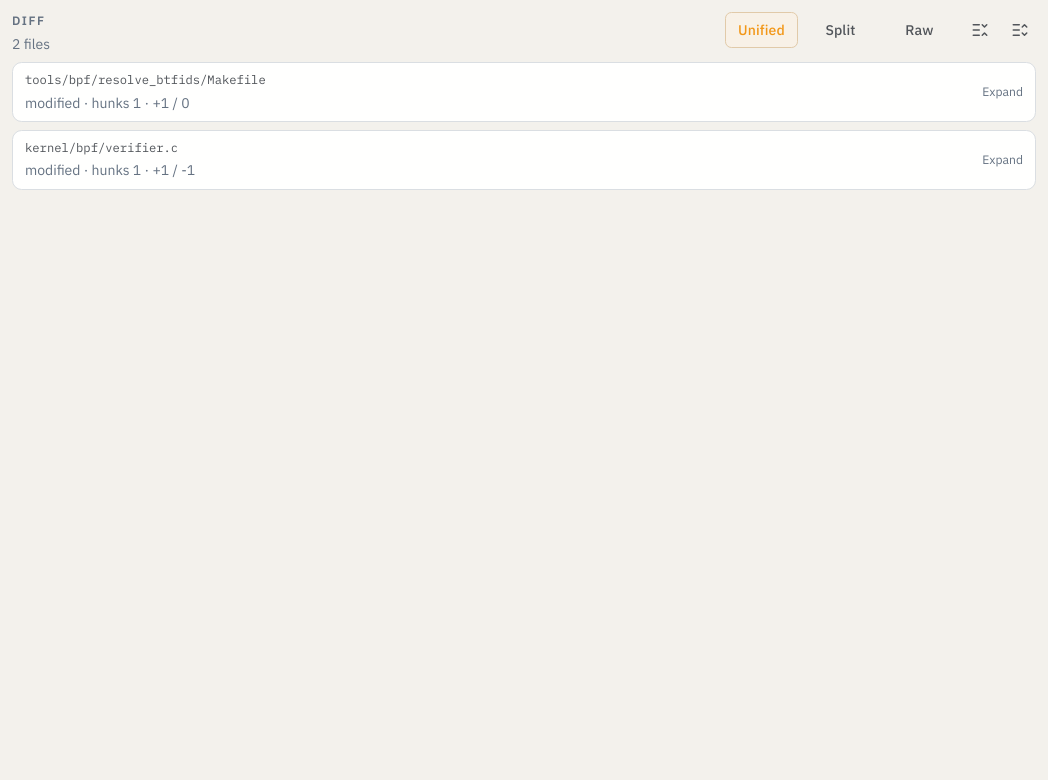
it: MessageDiffViewer › supports expand-all and collapse-all controls
The width and height of the screenshot is (1048, 780).
Click the button named "Expand all files in diff" at (1020, 30), box 1004,14 -> 1036,46
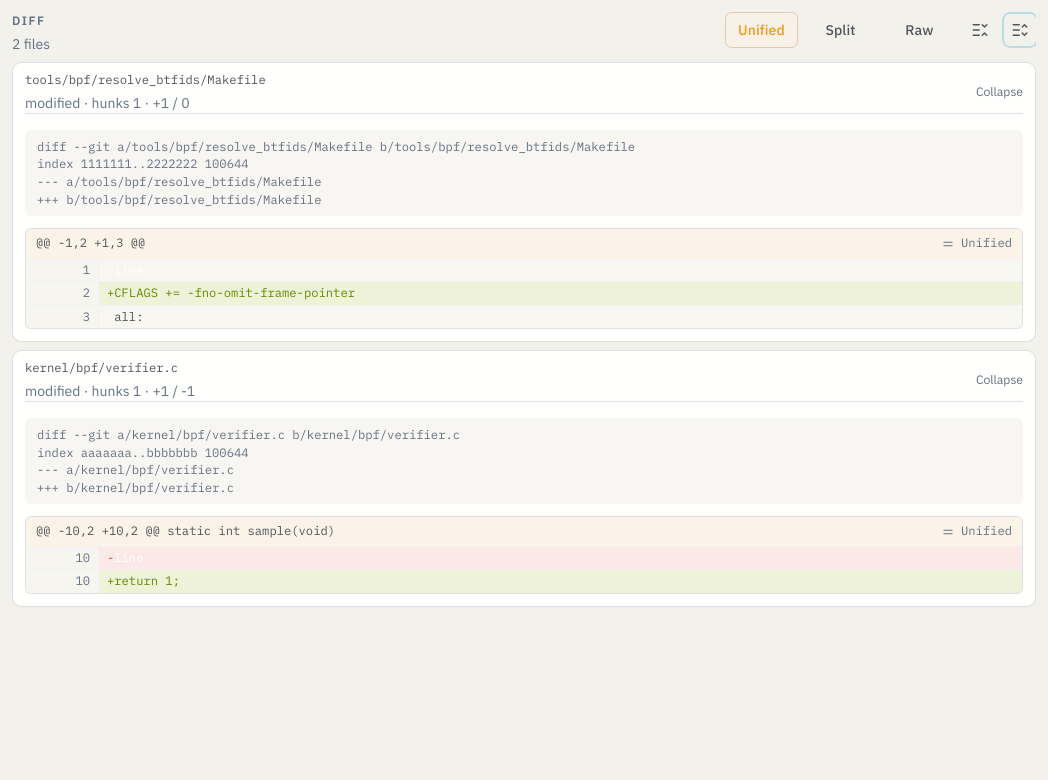
Check: the button with aria-label "Toggle file diff card: tools/bpf/resolve_btfids/Makefile" is expanded, box 25,71 -> 1023,114
Check: the button with aria-label "Toggle file diff card: kernel/bpf/verifier.c" is expanded, box 25,359 -> 1023,402
Click the button named "Collapse all files in diff" at (980, 30), box 964,14 -> 996,46
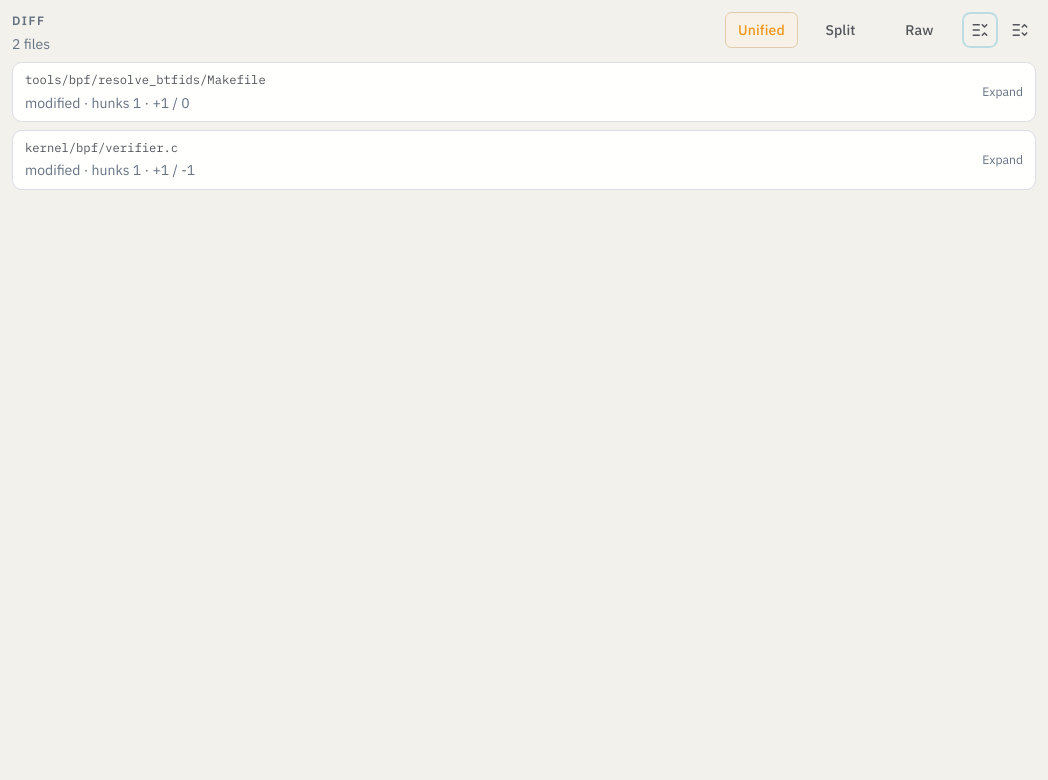
Check: the button with aria-label "Toggle file diff card: tools/bpf/resolve_btfids/Makefile" is collapsed, box 25,71 -> 1023,113
